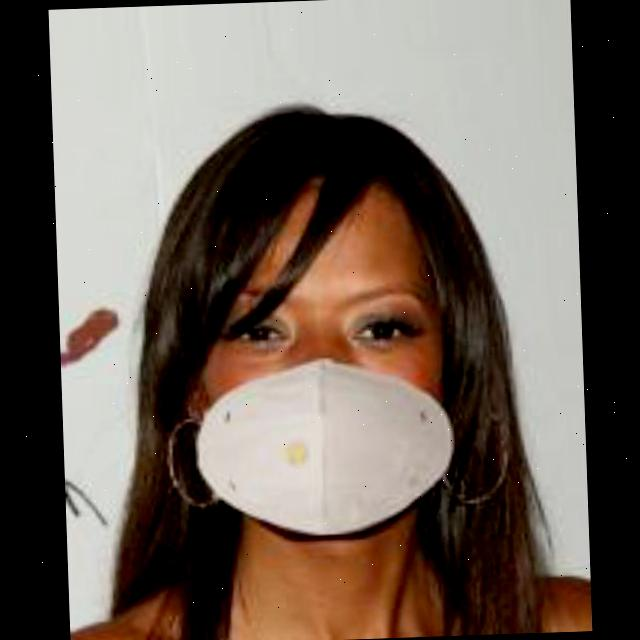suspicion: (143, 162, 478, 554)
